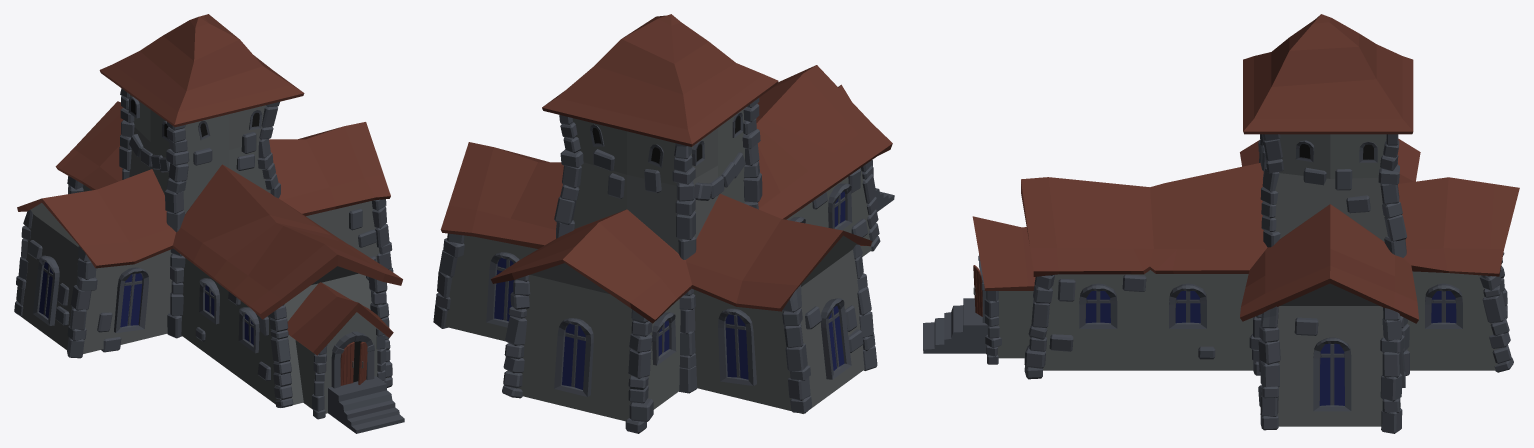
Rendered from SM_Crypt.fbx.
3 renders of one model, left to right at view 1: azimuth 30°, elevation 25°; view 2: azimuth 150°, elevation 25°; view 3: azimuth 270°, elevation 25°, orthographic. The views are drawn at different scales.
Visible parts, largest first — view 1: SM_Crypt; view 2: SM_Crypt; view 3: SM_Crypt.
Boxes of the visible parts, x1,y1,x2,y2 form: SM_Crypt: [14, 14, 404, 433]; SM_Crypt: [433, 14, 894, 433]; SM_Crypt: [923, 14, 1519, 433].
Size of the model in its own units: 1046 by 887 by 1454.
